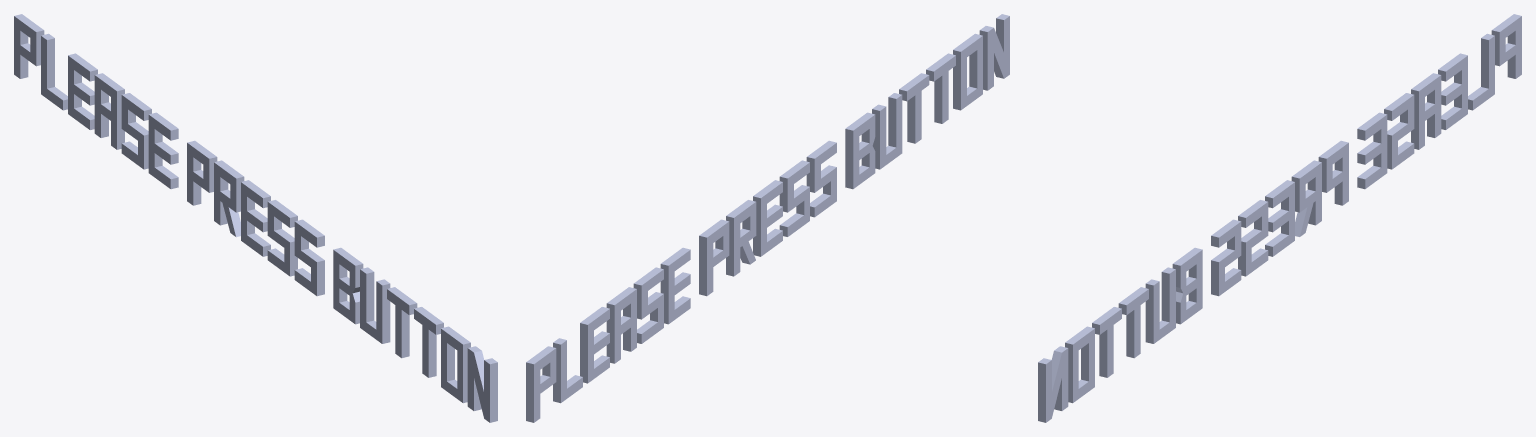
The model's file is Please_press_button.FBX.
3 views of the same model, side by side, from view 1: azimuth 30°, elevation 25°; view 2: azimuth 150°, elevation 25°; view 3: azimuth 330°, elevation 25° (orthographic).
Visible parts, largest first — view 1: Boss-Extrude1[17], Boss-Extrude1[13], Boss-Extrude1[4], Boss-Extrude1[12], Boss-Extrude1[6], Boss-Extrude1[8], Boss-Extrude1[11], Boss-Extrude1[16], Boss-Extrude1[10], Boss-Extrude1[9], Boss-Extrude1[5], Boss-Extrude1[3] (+5 smaller); view 2: Boss-Extrude1[12], Boss-Extrude1[16], Boss-Extrude1[4], Boss-Extrude1[13], Boss-Extrude1[8], Boss-Extrude1[17], Boss-Extrude1[3], Boss-Extrude1[10], Boss-Extrude1[11], Boss-Extrude1[7], Boss-Extrude1[1], Boss-Extrude1[9] (+5 smaller); view 3: Boss-Extrude1[17], Boss-Extrude1[13], Boss-Extrude1[4], Boss-Extrude1[12], Boss-Extrude1[6], Boss-Extrude1[8], Boss-Extrude1[11], Boss-Extrude1[16], Boss-Extrude1[10], Boss-Extrude1[9], Boss-Extrude1[5], Boss-Extrude1[3] (+5 smaller).
Boxes of the visible parts, bbox=[...] form: Boss-Extrude1[17]: bbox=[467, 346, 497, 422]; Boss-Extrude1[13]: bbox=[360, 267, 390, 343]; Boss-Extrude1[4]: bbox=[94, 73, 124, 149]; Boss-Extrude1[12]: bbox=[333, 247, 363, 324]; Boss-Extrude1[6]: bbox=[148, 112, 178, 189]; Boss-Extrude1[8]: bbox=[214, 160, 244, 236]; Boss-Extrude1[11]: bbox=[294, 219, 324, 296]; Boss-Extrude1[16]: bbox=[441, 326, 470, 403]; Boss-Extrude1[10]: bbox=[267, 200, 297, 276]; Boss-Extrude1[9]: bbox=[241, 180, 270, 256]; Boss-Extrude1[5]: bbox=[121, 93, 151, 169]; Boss-Extrude1[3]: bbox=[68, 53, 97, 129]; Boss-Extrude1[12]: bbox=[845, 112, 875, 189]; Boss-Extrude1[16]: bbox=[953, 33, 982, 110]; Boss-Extrude1[4]: bbox=[606, 287, 636, 363]; Boss-Extrude1[13]: bbox=[872, 93, 902, 169]; Boss-Extrude1[8]: bbox=[726, 200, 756, 276]; Boss-Extrude1[17]: bbox=[979, 14, 1009, 90]; Boss-Extrude1[3]: bbox=[580, 307, 609, 383]; Boss-Extrude1[10]: bbox=[779, 160, 809, 236]; Boss-Extrude1[11]: bbox=[806, 140, 836, 217]; Boss-Extrude1[7]: bbox=[699, 219, 729, 296]; Boss-Extrude1[1]: bbox=[526, 346, 556, 422]; Boss-Extrude1[9]: bbox=[753, 180, 782, 256]; Boss-Extrude1[17]: bbox=[1038, 346, 1068, 422]; Boss-Extrude1[13]: bbox=[1145, 267, 1175, 343]; Boss-Extrude1[4]: bbox=[1411, 73, 1441, 149]; Boss-Extrude1[12]: bbox=[1172, 247, 1202, 324]; Boss-Extrude1[6]: bbox=[1357, 112, 1387, 189]; Boss-Extrude1[8]: bbox=[1291, 160, 1321, 236]; Boss-Extrude1[11]: bbox=[1211, 219, 1241, 296]; Boss-Extrude1[16]: bbox=[1065, 326, 1094, 403]; Boss-Extrude1[10]: bbox=[1238, 200, 1268, 276]; Boss-Extrude1[9]: bbox=[1265, 180, 1294, 256]; Boss-Extrude1[5]: bbox=[1384, 93, 1414, 169]; Boss-Extrude1[3]: bbox=[1438, 53, 1467, 129].
Bounding box in the file's own units: 0.1 × 0.7002 × 10.3.
